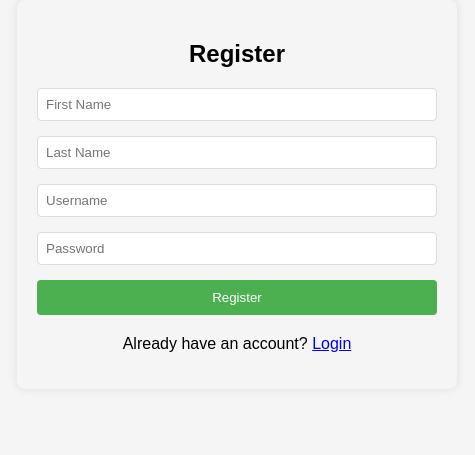
Test: Register Page › should handle generic registration error
The image size is (475, 455).
Click the button "Register": (237, 297) [37, 280, 437, 315]
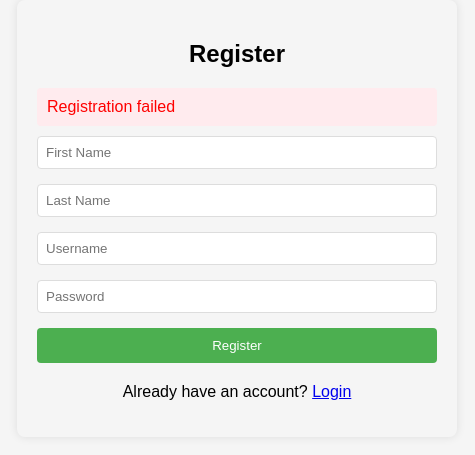
Check: the text "Registration failed" is shown, box [37, 88, 437, 126]
